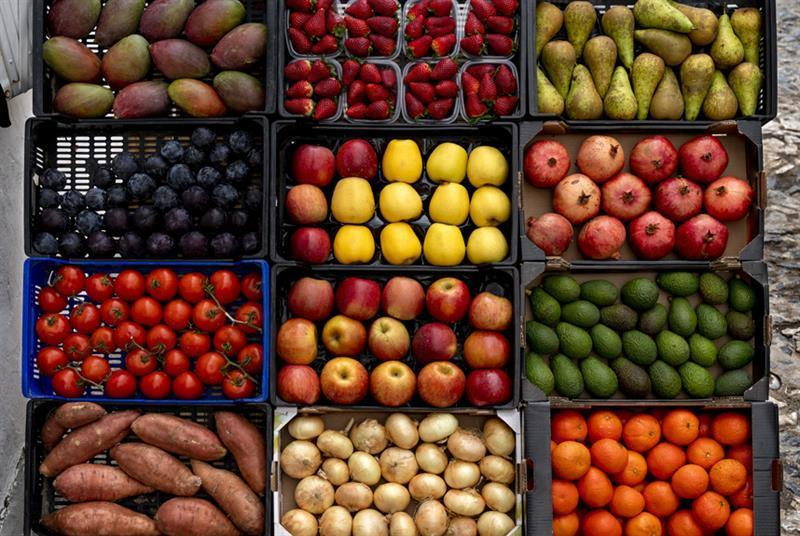apple: (321, 356, 369, 404), (418, 361, 466, 406), (426, 277, 471, 323), (372, 361, 415, 405), (278, 319, 320, 362), (337, 277, 379, 318), (289, 276, 331, 317), (277, 365, 319, 406), (324, 314, 366, 355), (370, 317, 412, 358), (383, 277, 425, 318), (467, 368, 510, 406), (470, 293, 513, 331), (414, 325, 457, 363), (465, 331, 508, 369), (290, 226, 330, 266), (289, 183, 329, 223), (293, 145, 333, 185), (337, 137, 377, 177)
